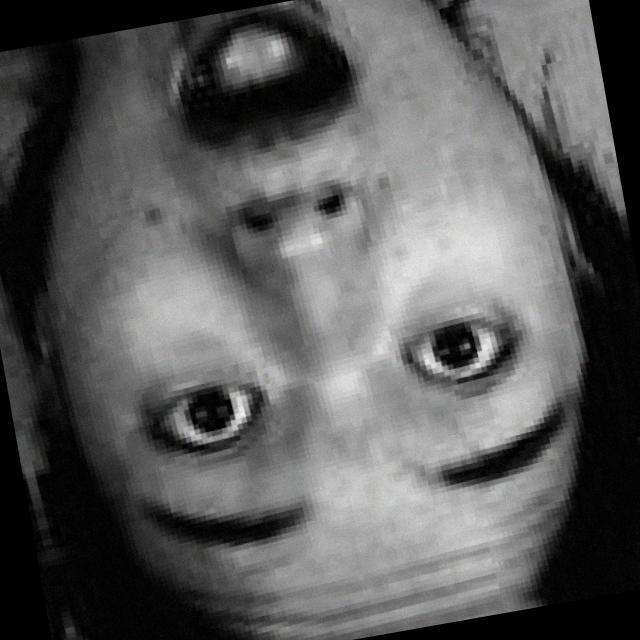surprise: (0, 0, 597, 629)
